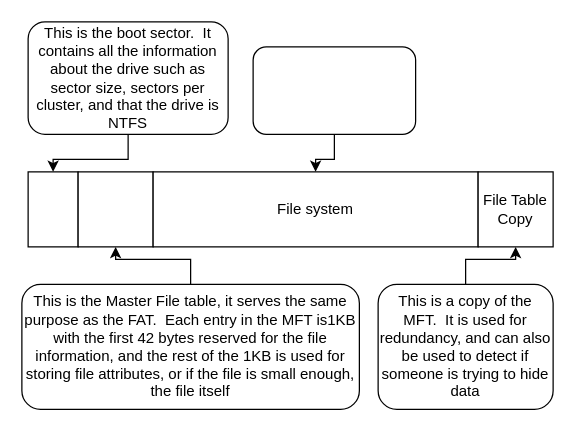
Image size: 575x431. Some labels were removed from this diagram. Each missing label, with the centre of its shape:
"Boot Sector" goes at point (52, 209).
"Master File Table" goes at point (115, 209).
"The bulk of the data storage. Where the majority of file data is stored." goes at point (334, 90).
